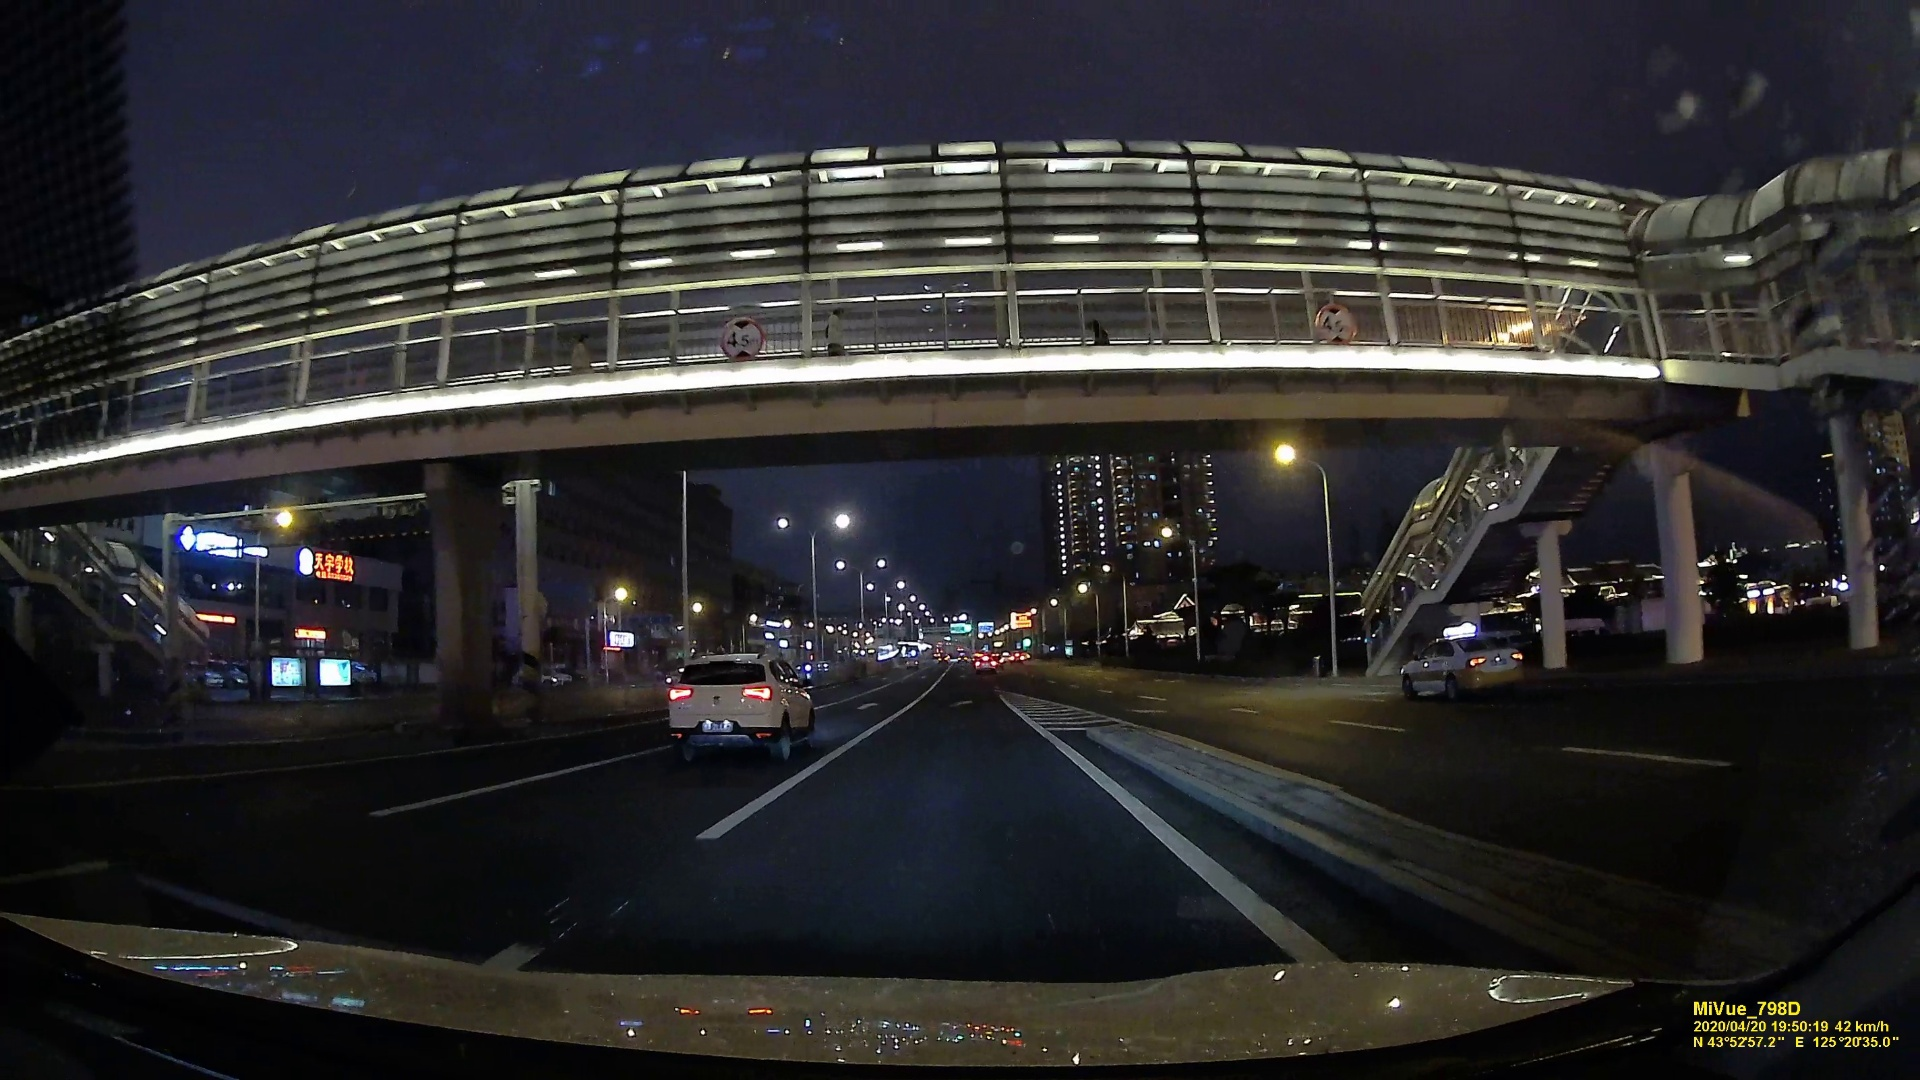traffic_sign: (719, 313, 760, 359), (1317, 298, 1356, 340)
vehicle: (662, 650, 816, 752), (1398, 637, 1523, 702), (975, 655, 996, 671)
